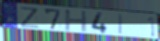1: (147, 16, 156, 37)
4: (90, 11, 109, 35)
7: (43, 8, 63, 31)
H: (64, 9, 89, 33)
I: (118, 13, 125, 36)
Z: (19, 6, 41, 30)
